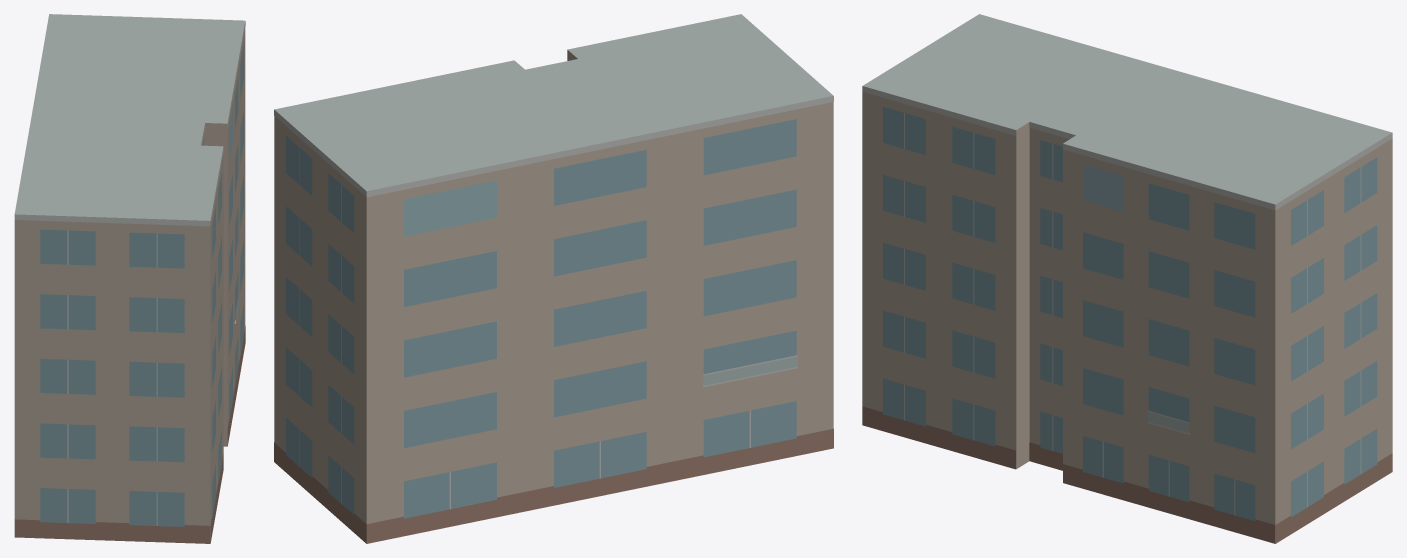
File: survey-upis-32540642.glb
The picture shows the model from 3 angles, left to right: view 1: azimuth 30°, elevation 25°; view 2: azimuth 150°, elevation 25°; view 3: azimuth 270°, elevation 25°; orthographic projection. The views are drawn at different scales.
Parts seen in each view (by area): view 1: survey-upis-32540642.tmp; view 2: survey-upis-32540642.tmp; view 3: survey-upis-32540642.tmp.
Boxes of the visible parts, box(x1,y1,x2,y2) form: survey-upis-32540642.tmp: box(14, 14, 245, 543); survey-upis-32540642.tmp: box(274, 14, 833, 543); survey-upis-32540642.tmp: box(862, 14, 1392, 543).
Bounding box in the file's own units: 17.16 × 14.24 × 20.17.
